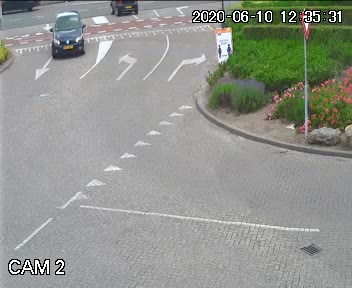car: (48, 13, 86, 65), (107, 0, 138, 19)
